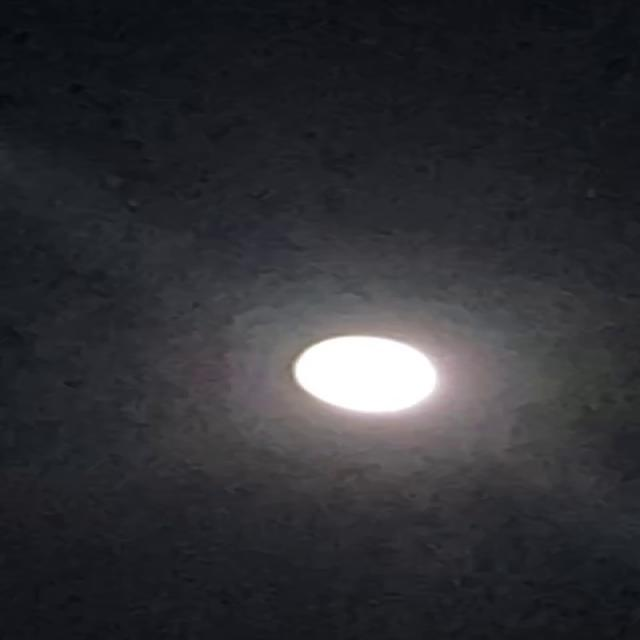moon: (283, 328, 467, 423)
